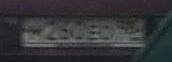license-plateSW: (21, 18, 146, 44)
